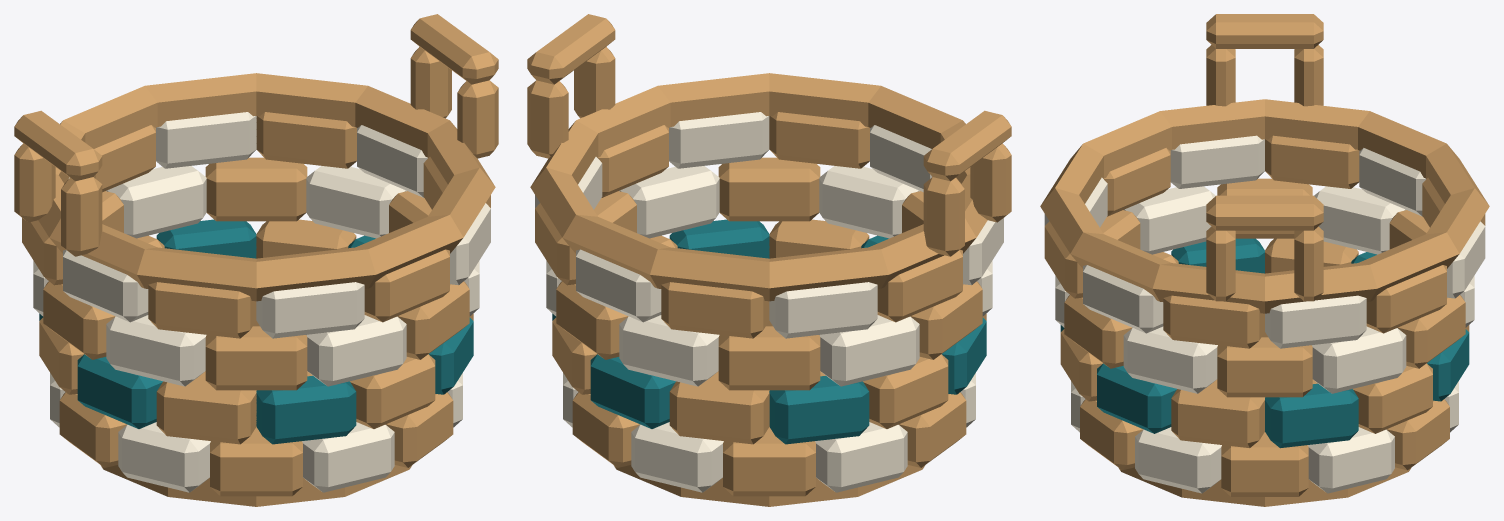
Rendered from woven_basket.glb.
3 views of the same model, side by side, from view 1: azimuth 30°, elevation 25°; view 2: azimuth 150°, elevation 25°; view 3: azimuth 270°, elevation 25° (orthographic). The views are drawn at different scales.
Parts seen in each view (by area): view 1: woven_basket; view 2: woven_basket; view 3: woven_basket.
Part boxes in pixels (x1,y1,x2,y2): woven_basket: (14,14,498,506); woven_basket: (527,14,1011,506); woven_basket: (1040,14,1489,506).
Bounding box in the file's own units: 0.48 × 0.37 × 0.46.
